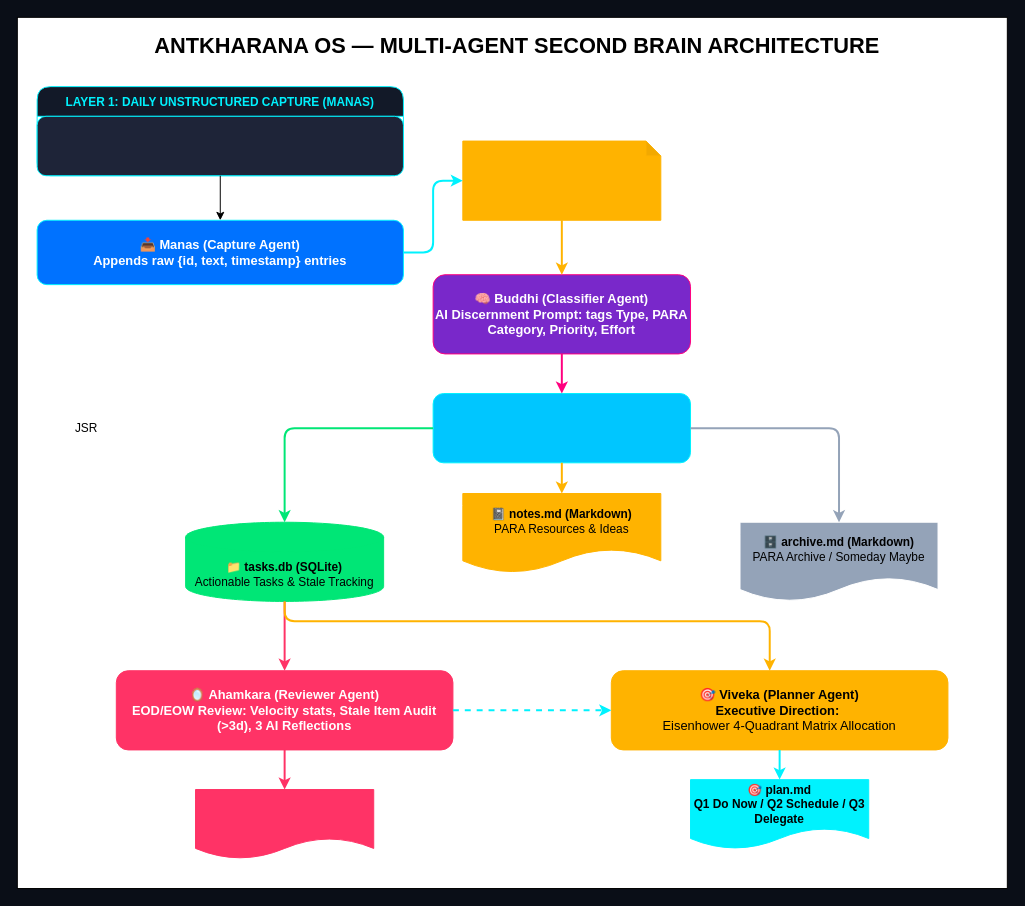
Some shapes in this 1025 by 906 pixel diagram are drawn without their labels. The centre of each missing label's shape, as x and y in pixels:
💻 CLI Command / File Upload (Raw Text, Voice Notes, Markdown): the point at 219,145
📊 digest.md Execution Metrics & AI Reflections: the point at 284,824
📭 inbox.jsonl (Append-only daily capture buffer): the point at 561,180
🗄️ Chitta (Router Agent) Atomic PARA routing into SQLite & Markdown stores: the point at 561,428
